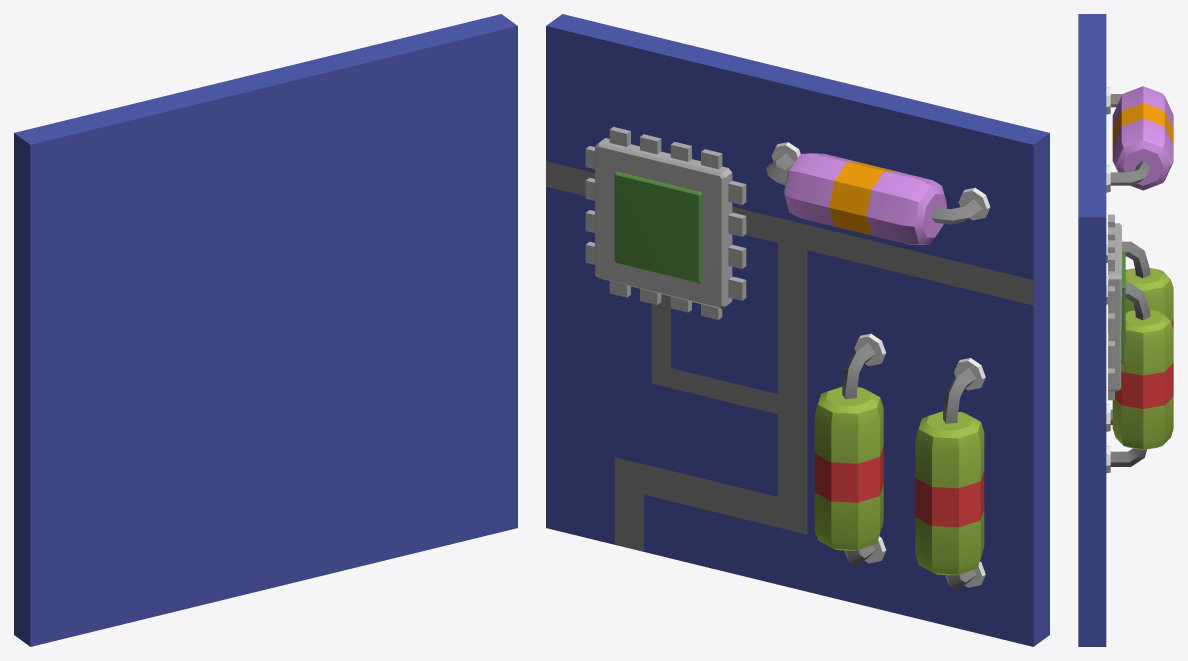
File: Transistor_03.fbx
3 views of the same model, side by side, from view 1: azimuth 30°, elevation 25°; view 2: azimuth 150°, elevation 25°; view 3: azimuth 270°, elevation 25° (orthographic). The views are drawn at different scales.
Visible parts, largest first — view 1: Transistor_03; view 2: Transistor_03; view 3: Transistor_03.
Part boxes in pixels (x1,y1,x2,y2): Transistor_03: (14,14,517,646); Transistor_03: (546,14,1049,646); Transistor_03: (1078,14,1173,646).
Bounding box in the file's own units: 8.59 × 8.46 × 1.71.
